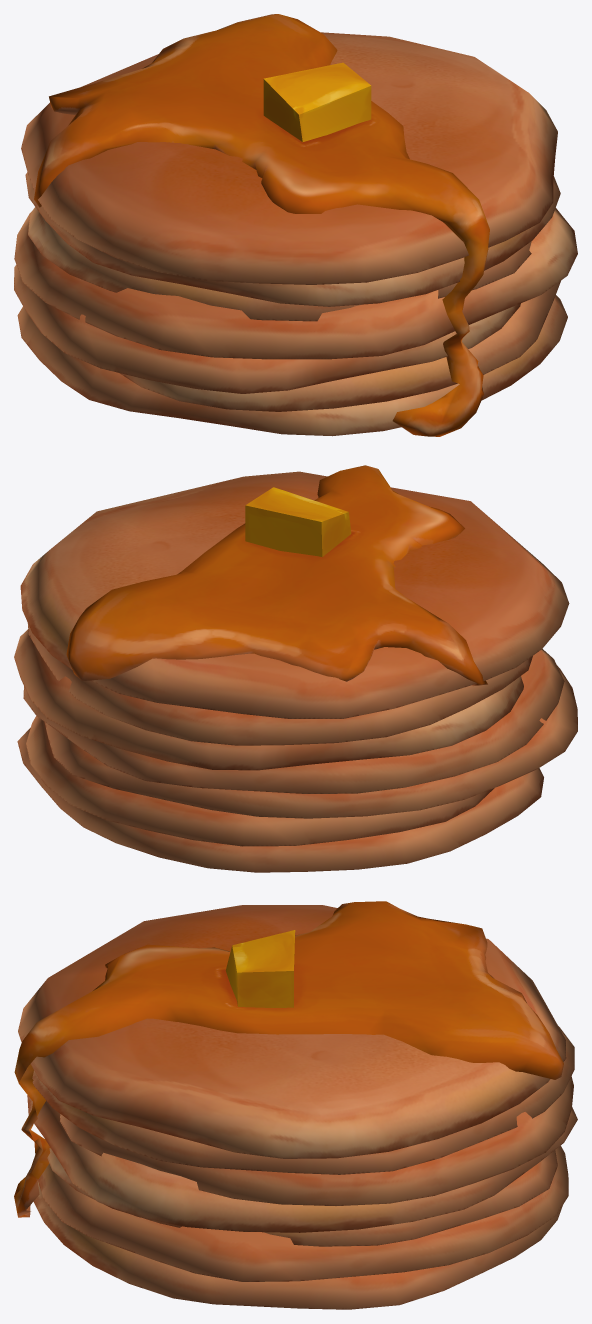
File: pancakeall.fbx
The picture shows the model from 3 angles, top to bottom: view 1: azimuth 30°, elevation 25°; view 2: azimuth 150°, elevation 25°; view 3: azimuth 270°, elevation 25°; orthographic projection. The views are drawn at different scales.
Visible parts, largest first — view 1: pancakeall, honeyonpanck, butter; view 2: pancakeall, honeyonpanck, butter; view 3: pancakeall, honeyonpanck, butter.
Boxes of the visible parts, bbox=[...] form: pancakeall: bbox=[14, 32, 577, 436]; honeyonpanck: bbox=[34, 14, 489, 436]; butter: bbox=[263, 62, 371, 141]; pancakeall: bbox=[14, 471, 577, 872]; honeyonpanck: bbox=[66, 465, 487, 686]; butter: bbox=[245, 487, 351, 556]; pancakeall: bbox=[18, 905, 577, 1309]; honeyonpanck: bbox=[14, 901, 563, 1217]; butter: bbox=[225, 930, 295, 1007].
Size of the model in its own units: 33.53 by 17.03 by 32.85.
